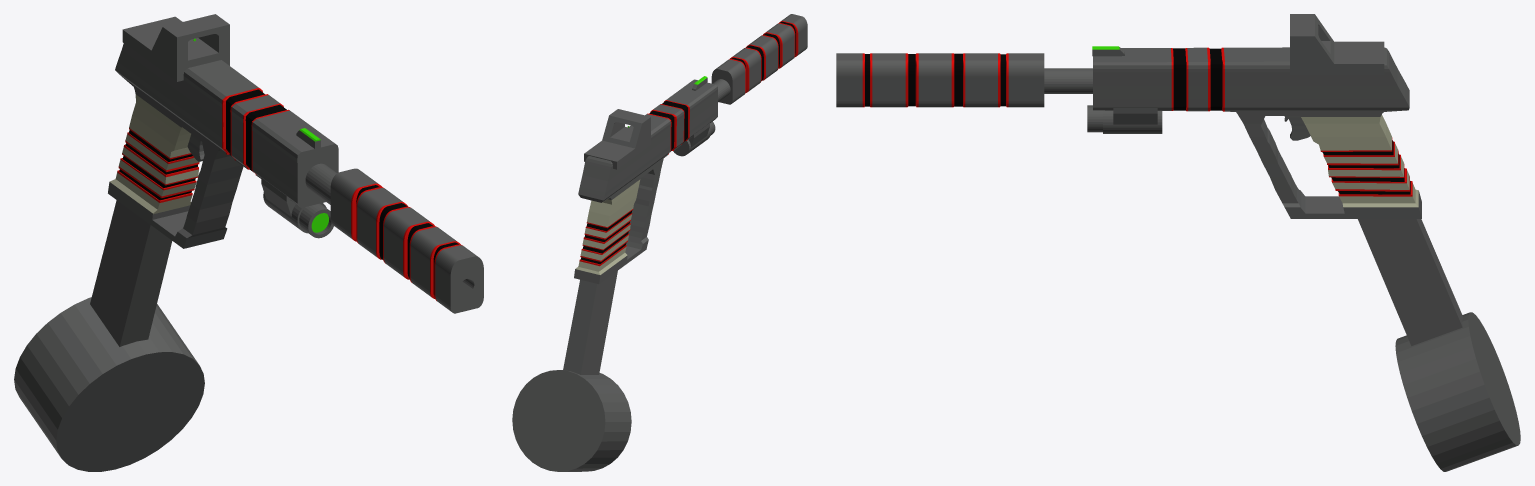
Rendered from scifi.pistol.updated.fbx.
The picture shows the model from 3 angles, left to right: view 1: azimuth 30°, elevation 25°; view 2: azimuth 150°, elevation 25°; view 3: azimuth 270°, elevation 25°; orthographic projection. The views are drawn at different scales.
Visible parts, largest first — view 1: 50.round.drum, base, suppresor, sight, laser, barrel; view 2: 50.round.drum, base, suppresor, sight, laser; view 3: base, 50.round.drum, suppresor, sight, laser, barrel.
Boxes of the visible parts, x1=… form: 50.round.drum: x1=14, y1=200, x2=204, y2=471; base: x1=108, y1=43, x2=338, y2=248; suppresor: x1=330, y1=168, x2=483, y2=313; sight: x1=122, y1=14, x2=229, y2=81; laser: x1=261, y1=177, x2=333, y2=238; barrel: x1=305, y1=163, x2=336, y2=204; 50.round.drum: x1=512, y1=271, x2=631, y2=471; base: x1=574, y1=79, x2=717, y2=284; suppresor: x1=711, y1=14, x2=807, y2=104; sight: x1=584, y1=109, x2=650, y2=169; laser: x1=673, y1=121, x2=715, y2=156; base: x1=1093, y1=47, x2=1421, y2=218; 50.round.drum: x1=1358, y1=219, x2=1520, y2=471; suppresor: x1=836, y1=53, x2=1044, y2=107; sight: x1=1290, y1=14, x2=1384, y2=74; laser: x1=1087, y1=105, x2=1162, y2=133; barrel: x1=1044, y1=68, x2=1092, y2=93.
Size of the model in its own units: 89.6 by 420 by 297.
